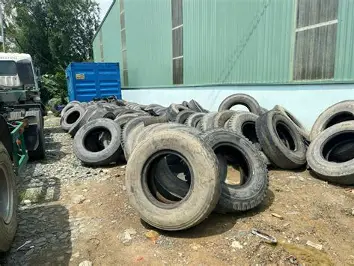ROAD_OBSTACLE: (60, 90, 354, 235), (125, 120, 220, 230)
